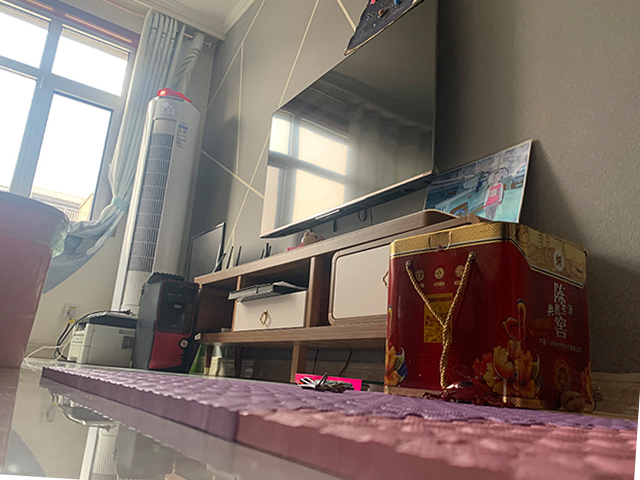cabinet: (186, 227, 393, 378)
trashcan: (1, 189, 70, 368)
wire: (26, 309, 79, 362)
